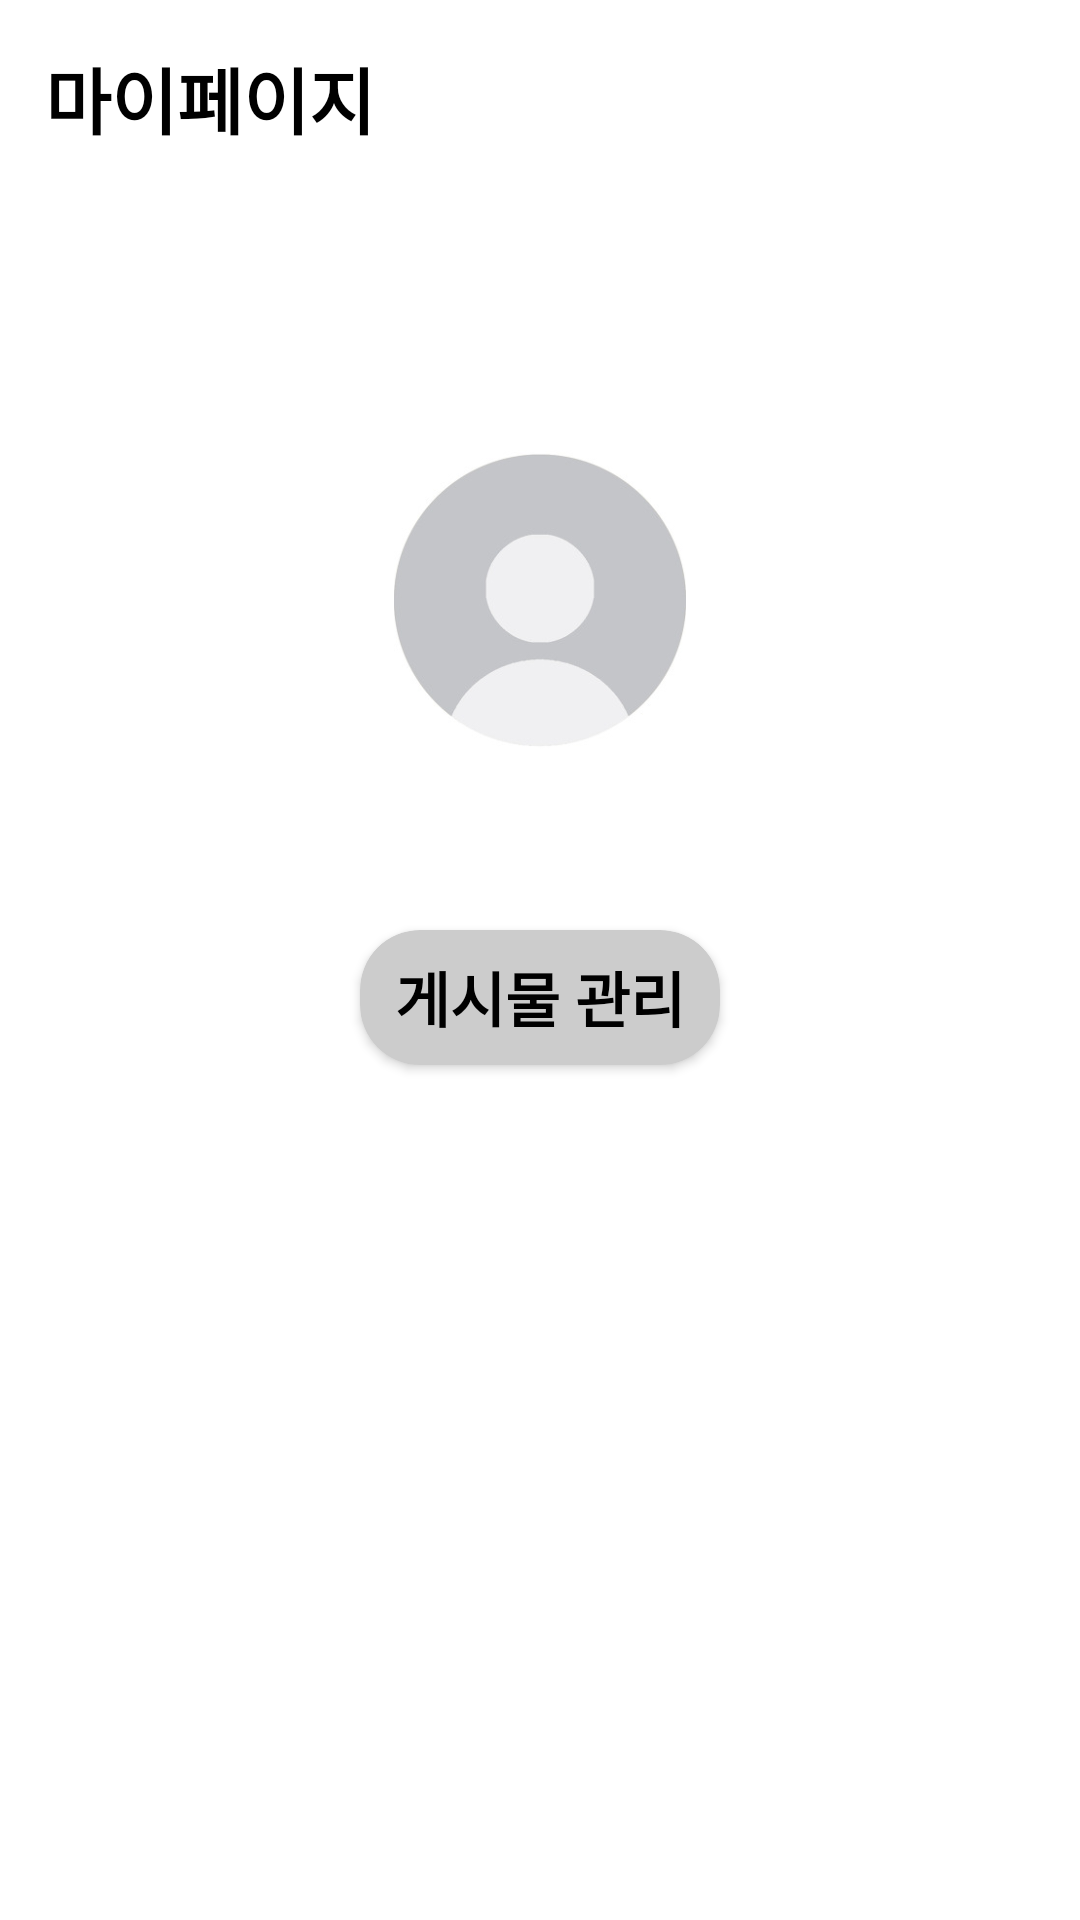

Icon click points for this 1080w x 1920h phone screenshot, format [x,y]:
info profile: [540,585]
